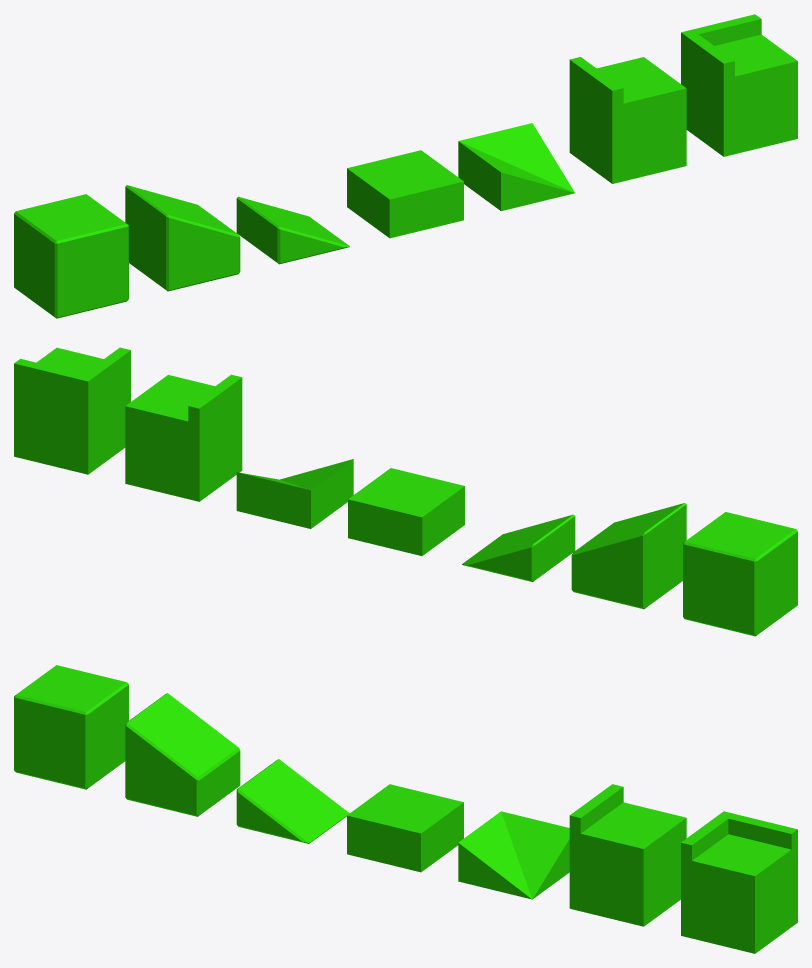
File: World-BlockV1.glb
The picture shows the model from 3 angles, top to bottom: view 1: azimuth 30°, elevation 25°; view 2: azimuth 150°, elevation 25°; view 3: azimuth 330°, elevation 25°; orthographic projection.
Parts seen in each view (by area): view 1: BlockWallCorner, BlockWall, Block, RampTop, ShortBlock, RampLowerCorner, RampBottom; view 2: BlockWall, BlockWallCorner, Block, RampTop, ShortBlock, RampLowerCorner, RampBottom; view 3: BlockWallCorner, BlockWall, Block, RampTop, ShortBlock, RampLowerCorner, RampBottom.
Part boxes in pixels (x1=…): BlockWallCorner: x1=681, y1=14, x2=797, y2=156; BlockWall: x1=569, y1=57, x2=686, y2=183; Block: x1=14, y1=194, x2=128, y2=318; RampTop: x1=125, y1=185, x2=240, y2=291; ShortBlock: x1=347, y1=150, x2=463, y2=238; RampLowerCorner: x1=458, y1=123, x2=574, y2=211; RampBottom: x1=236, y1=196, x2=349, y2=264; BlockWall: x1=125, y1=374, x2=242, y2=501; BlockWallCorner: x1=14, y1=347, x2=130, y2=474; Block: x1=683, y1=512, x2=797, y2=636; RampTop: x1=571, y1=503, x2=686, y2=609; ShortBlock: x1=348, y1=468, x2=464, y2=555; RampLowerCorner: x1=236, y1=459, x2=353, y2=528; RampBottom: x1=462, y1=514, x2=575, y2=581; BlockWallCorner: x1=681, y1=811, x2=797, y2=953; BlockWall: x1=569, y1=784, x2=686, y2=926; Block: x1=14, y1=665, x2=128, y2=789; RampTop: x1=125, y1=693, x2=240, y2=816; ShortBlock: x1=347, y1=784, x2=463, y2=872; RampLowerCorner: x1=458, y1=811, x2=569, y2=899; RampBottom: x1=236, y1=759, x2=349, y2=843.
Size of what is drawn, in the model's own units: 20 by 2.4 by 2.
